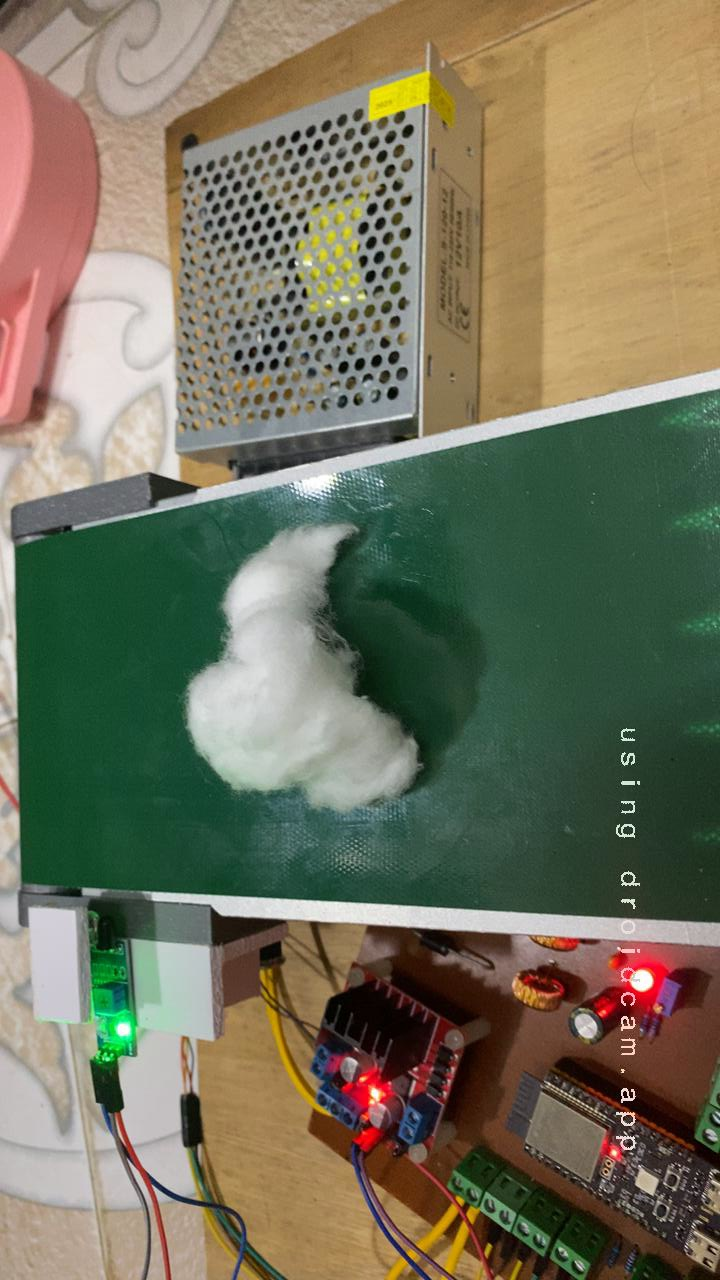cotton: (153, 504, 450, 843)
